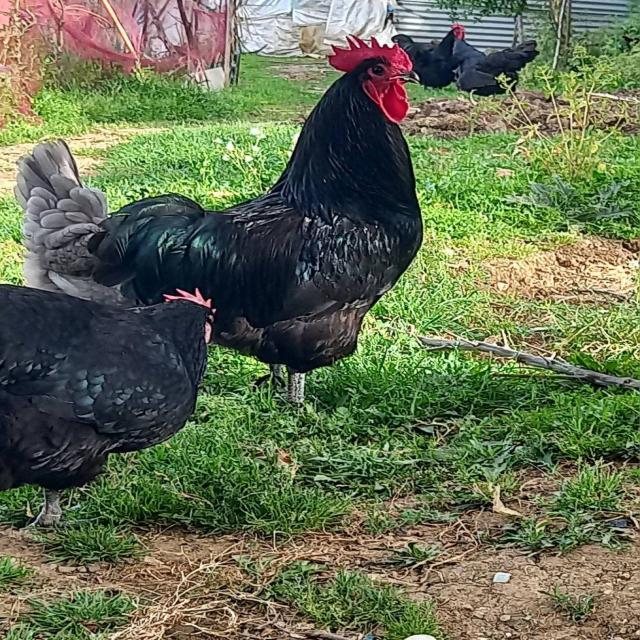Healthy: (16, 13, 441, 400)
